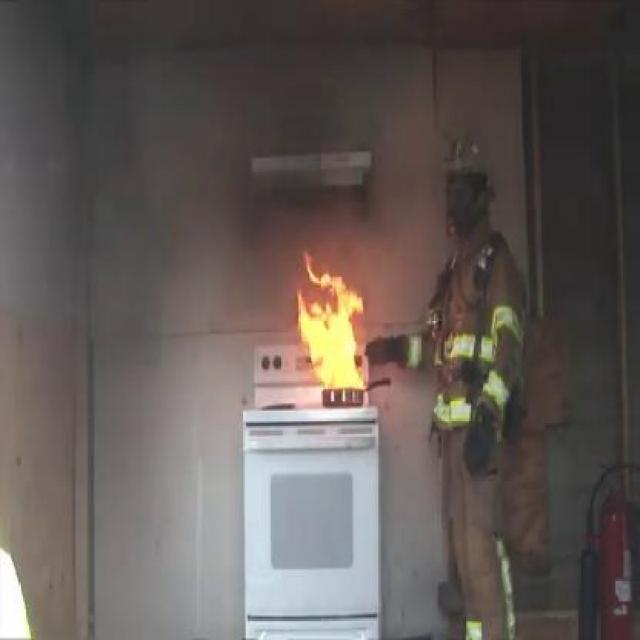fire: (296, 246, 369, 392)
